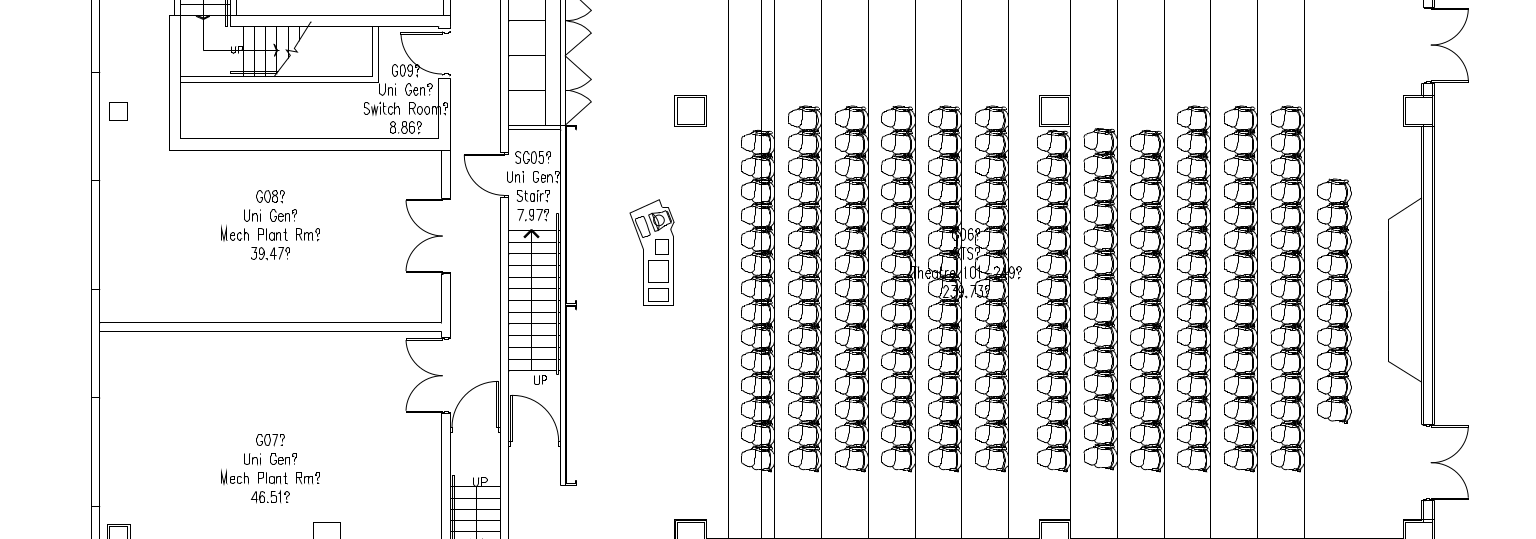door: (1430, 4, 1483, 87), (1426, 422, 1479, 505), (403, 333, 444, 417), (398, 195, 439, 279), (449, 370, 498, 432), (511, 388, 560, 450), (396, 28, 449, 80), (460, 142, 505, 202)
